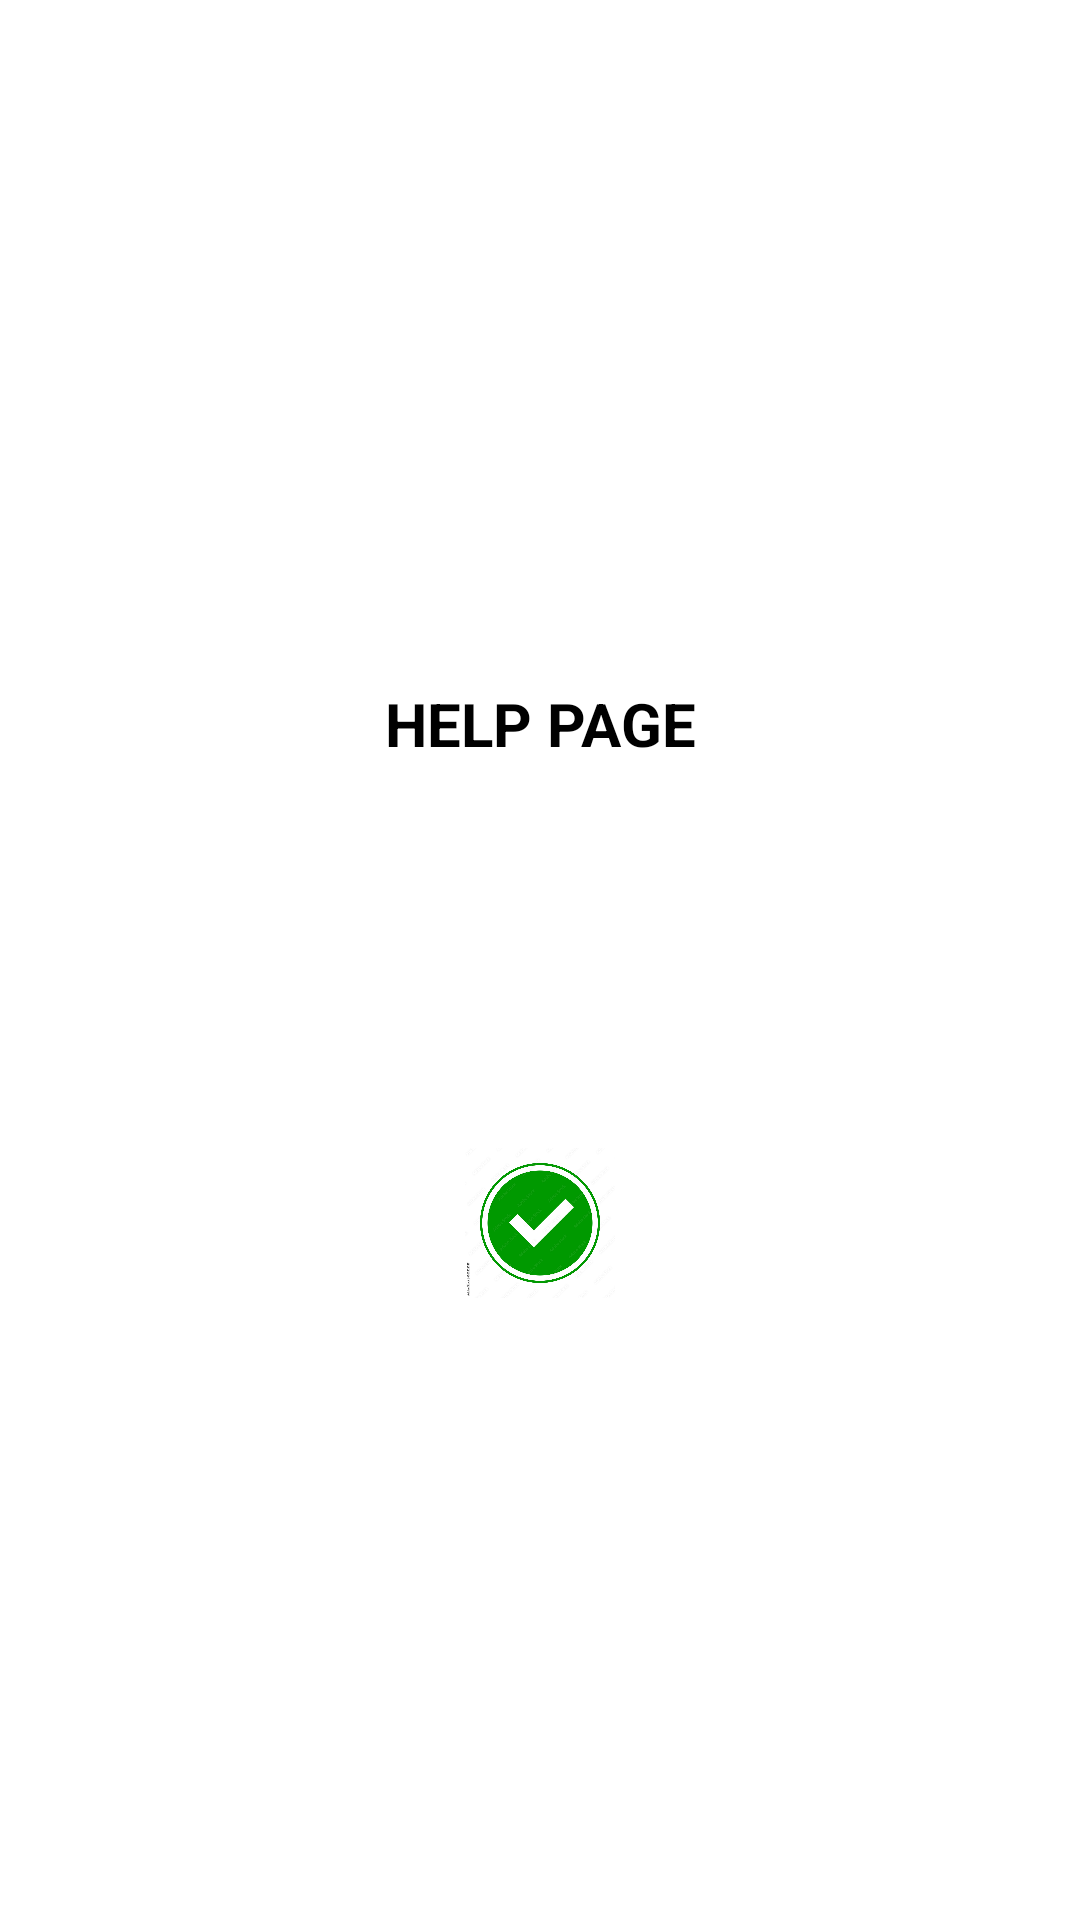

Point at icon controls on the screen. Image size 1080×1920, points as (x=x, y=y).
confirmation: (x=533, y=1229)
